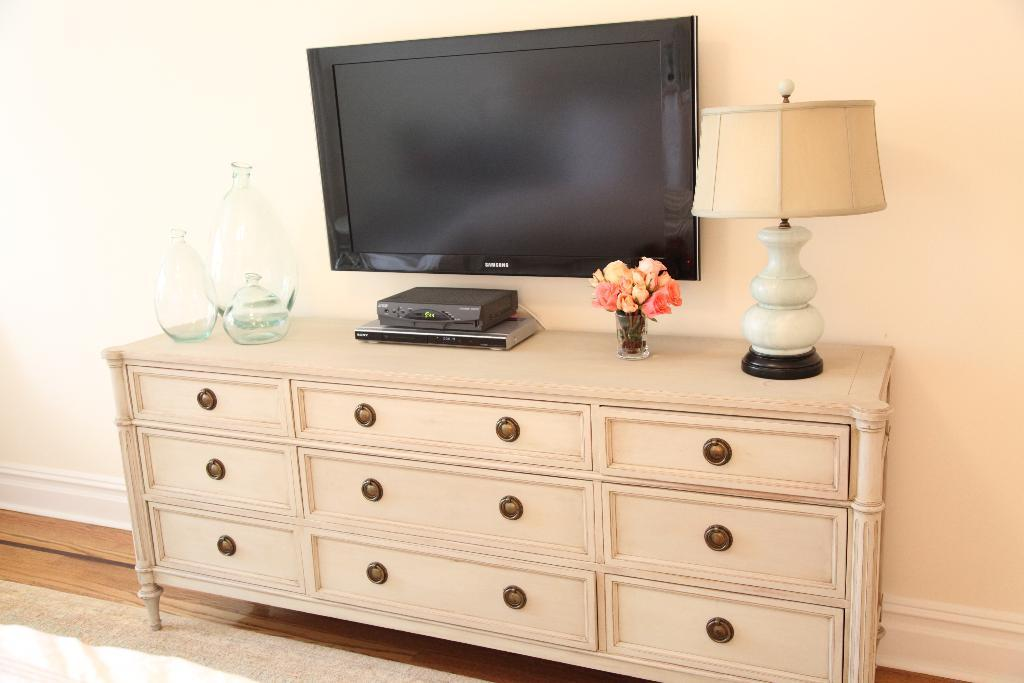cabinet_door: (308, 456, 594, 549), (321, 546, 589, 638), (614, 580, 846, 682), (609, 490, 843, 578), (603, 407, 849, 490), (308, 393, 595, 464), (155, 507, 296, 592), (144, 437, 294, 516), (130, 372, 288, 431)
handle: (701, 612, 737, 649), (700, 523, 738, 557), (694, 437, 740, 464), (494, 494, 532, 524), (350, 477, 388, 504), (200, 457, 234, 484), (364, 564, 398, 588), (492, 419, 526, 441), (208, 538, 246, 557), (194, 390, 226, 412), (348, 405, 382, 424), (498, 590, 528, 610)
